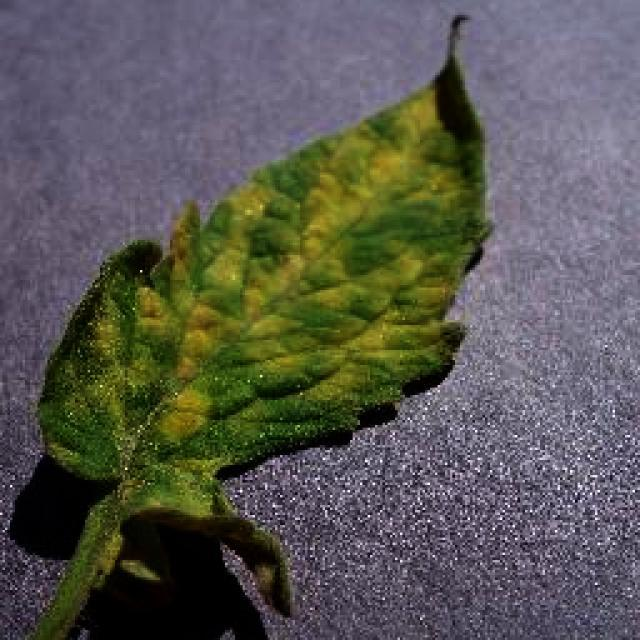Tomato mold leaf: (45, 15, 497, 615)
